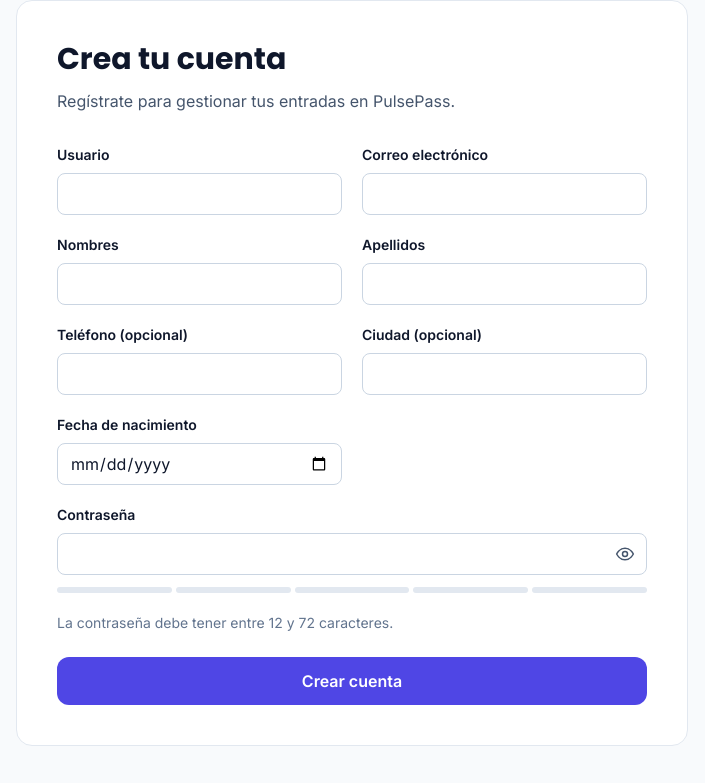
Scenario: registro: medidor de fortaleza de la contraseña
This screenshot has width=705, height=783.
Type "abcdefghijkl" into the password field labelled "Contraseña" at (352, 554), box [57,533,647,575]
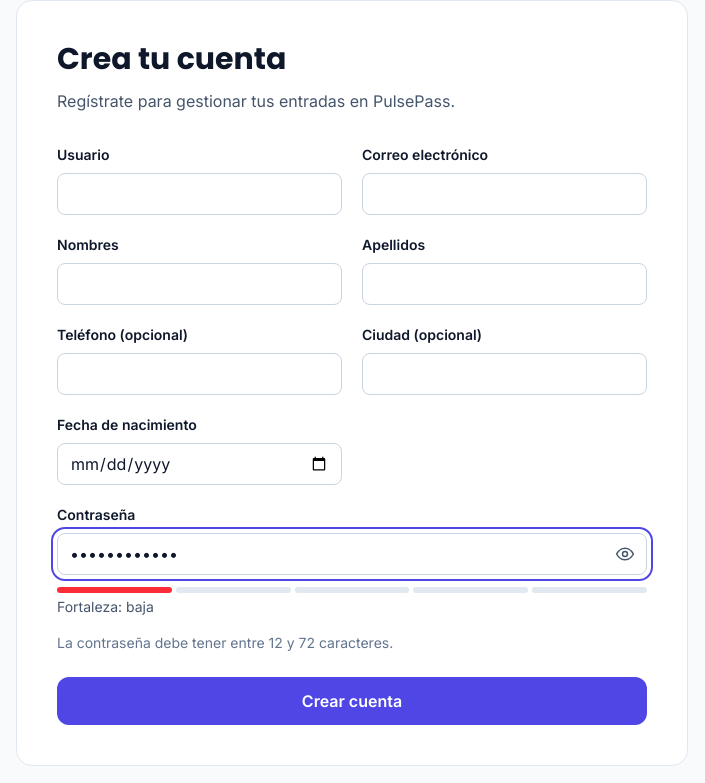
Now the text "Fortaleza: baja" is shown, box [57,598,154,615]
Type "UnaClaveMuyLarga#2026" into the password field labelled "Contraseña" at (352, 554), box [57,533,647,575]
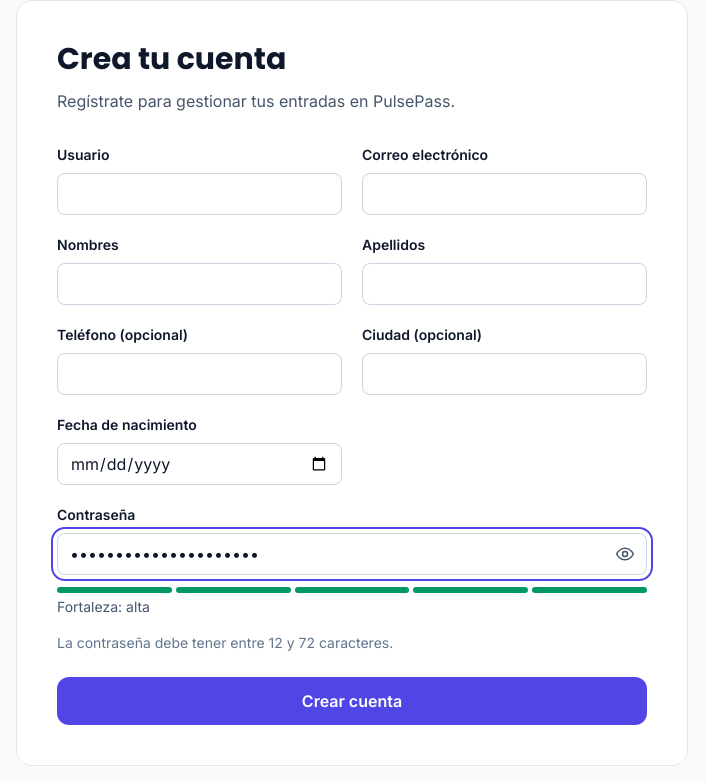
Now the text "Fortaleza: alta" is shown, box [57,598,150,615]
